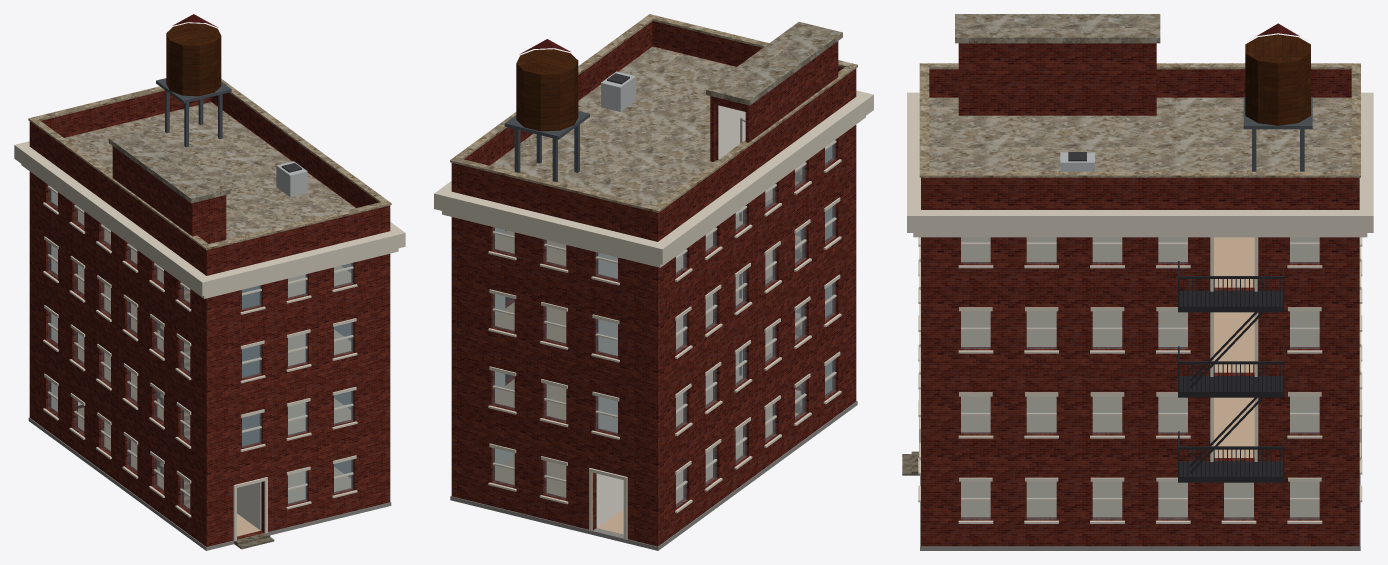
Rendered from mh-tenement.towns-v1.lod0.glb.
3 views of the same model, side by side, from view 1: azimuth 30°, elevation 25°; view 2: azimuth 150°, elevation 25°; view 3: azimuth 270°, elevation 25° (orthographic). The views are drawn at different scales.
Parts seen in each view (by area): view 1: mh-tenement; view 2: mh-tenement; view 3: mh-tenement.
Boxes of the visible parts, x1,y1,x2,y2 form: mh-tenement: [14, 14, 405, 550]; mh-tenement: [434, 14, 873, 550]; mh-tenement: [902, 14, 1373, 550].
Bounding box in the file's own units: 10.05 × 17.45 × 15.05.
7 materials, 3 textured.
